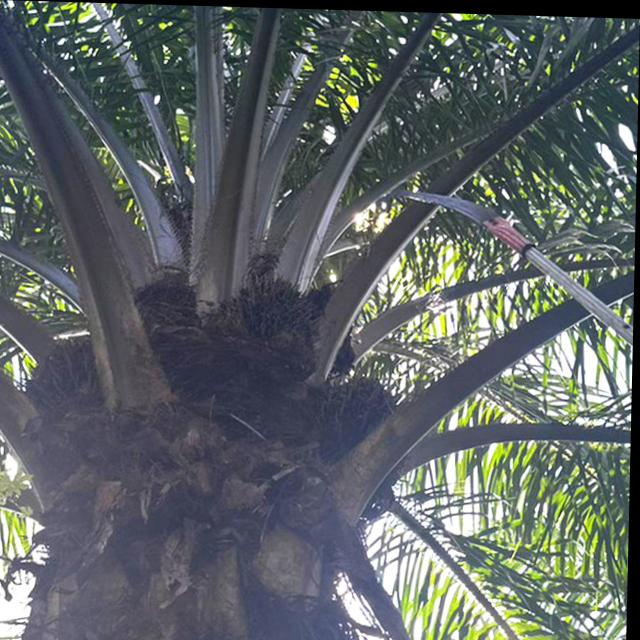unripe: (211, 262, 333, 376), (301, 359, 407, 475)
